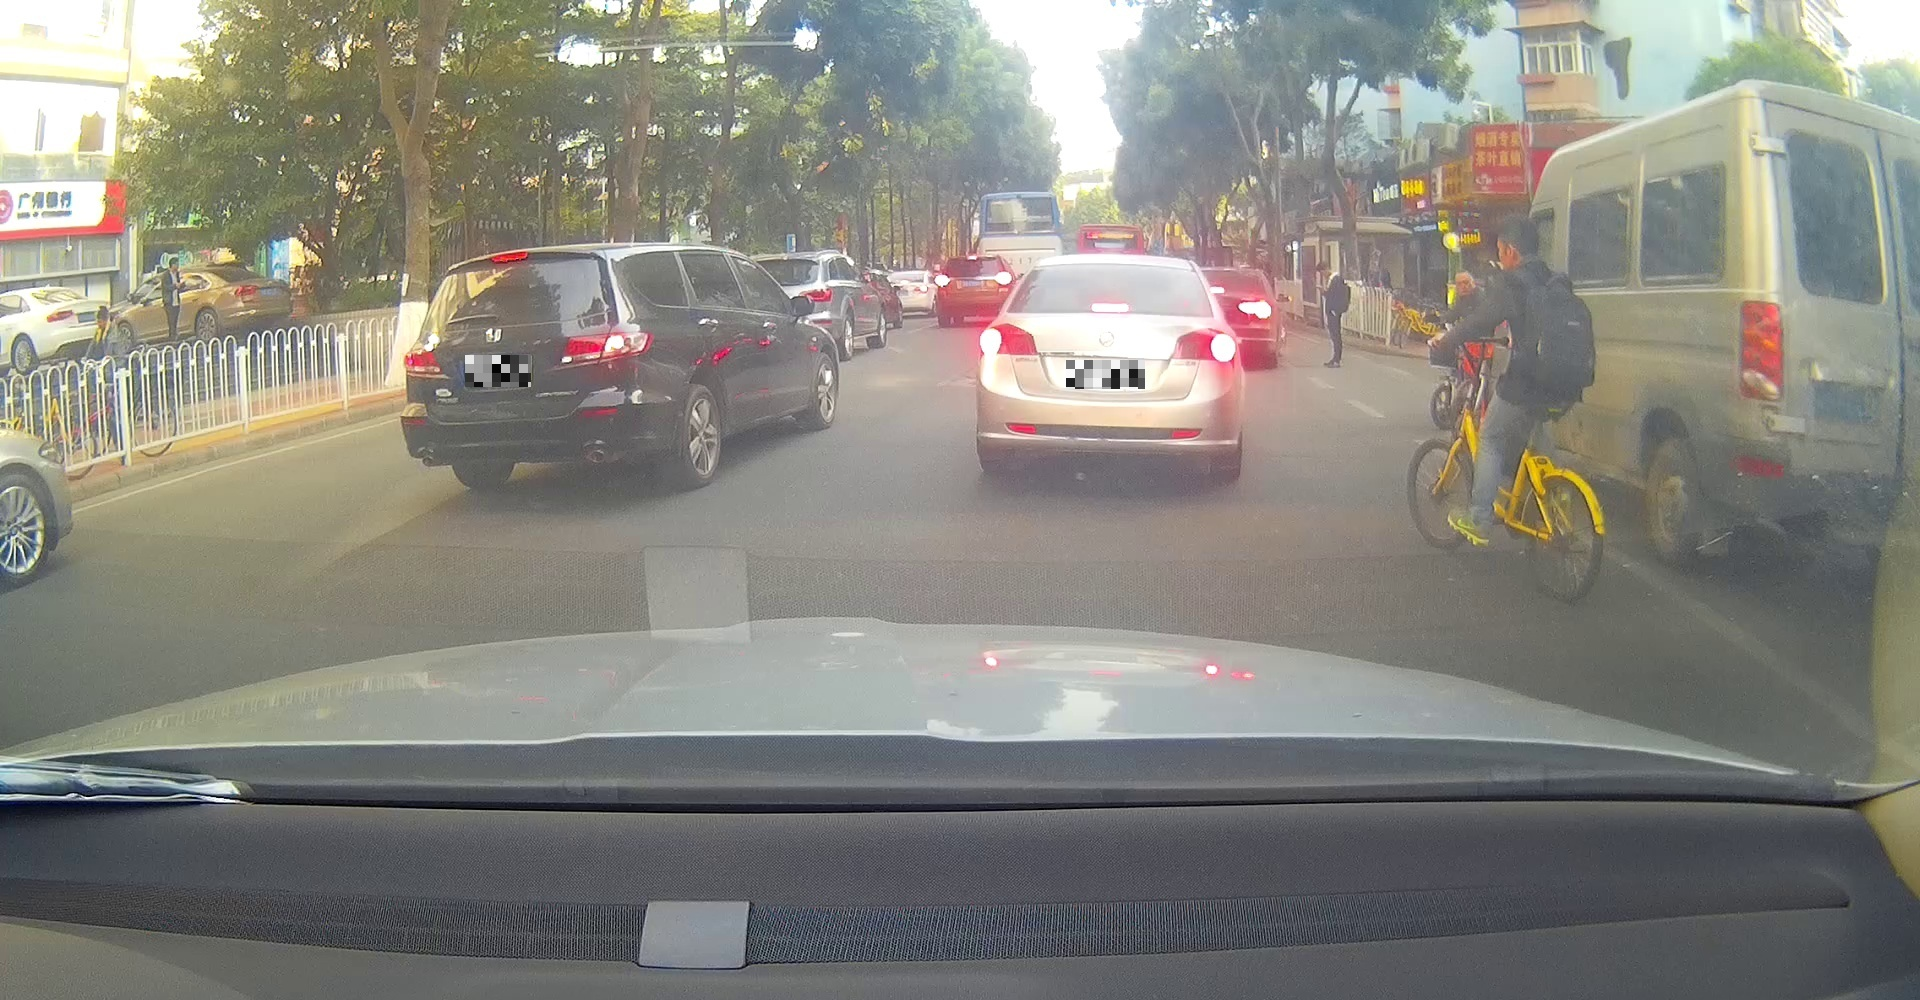L_light: (978, 324, 1037, 357), (401, 346, 450, 379)
R_light: (556, 331, 653, 371), (1171, 327, 1236, 363)
T_light: (1091, 303, 1129, 312), (491, 253, 528, 261)
day-brake: (399, 247, 653, 489), (977, 253, 1236, 478)
plate_1: (465, 355, 531, 387)
plate_2: (1065, 360, 1145, 390)
